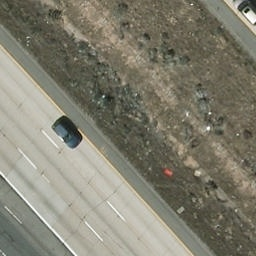car: (50, 118, 83, 152)
